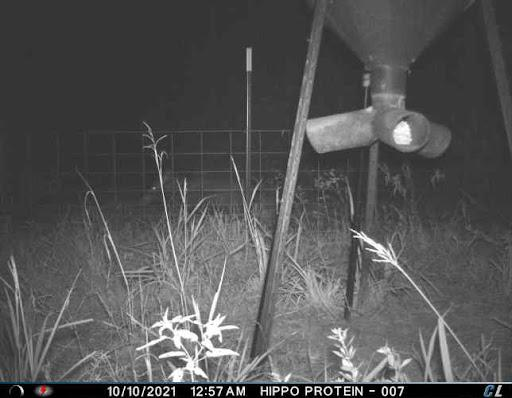Hog: (145, 166, 272, 238)
